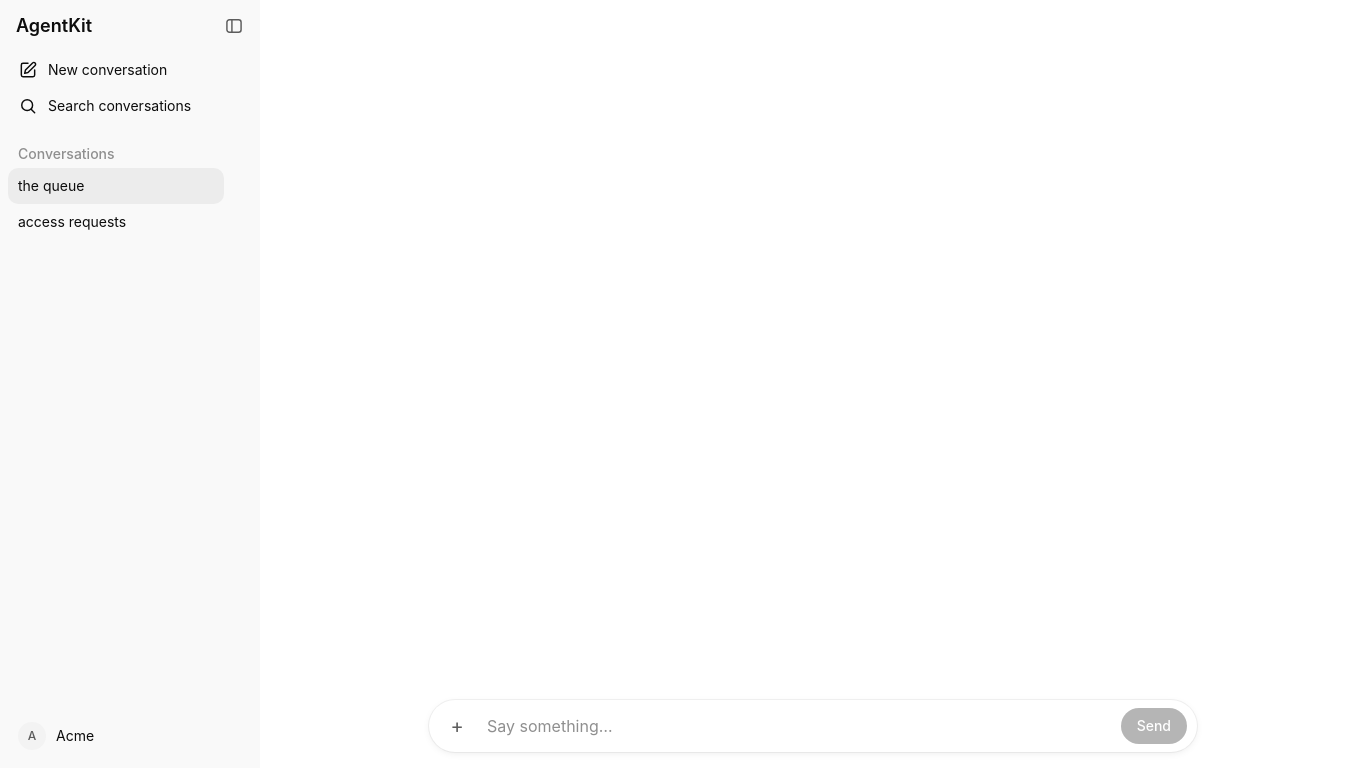
Test: threads end to end › starts a new conversation rather than emptying the open one
Expected: the text "the queue" is shown, [18, 176, 84, 196]
Click the button with aria-label "Start a new conversation". click: x=130, y=70
box: [8, 52, 252, 88]
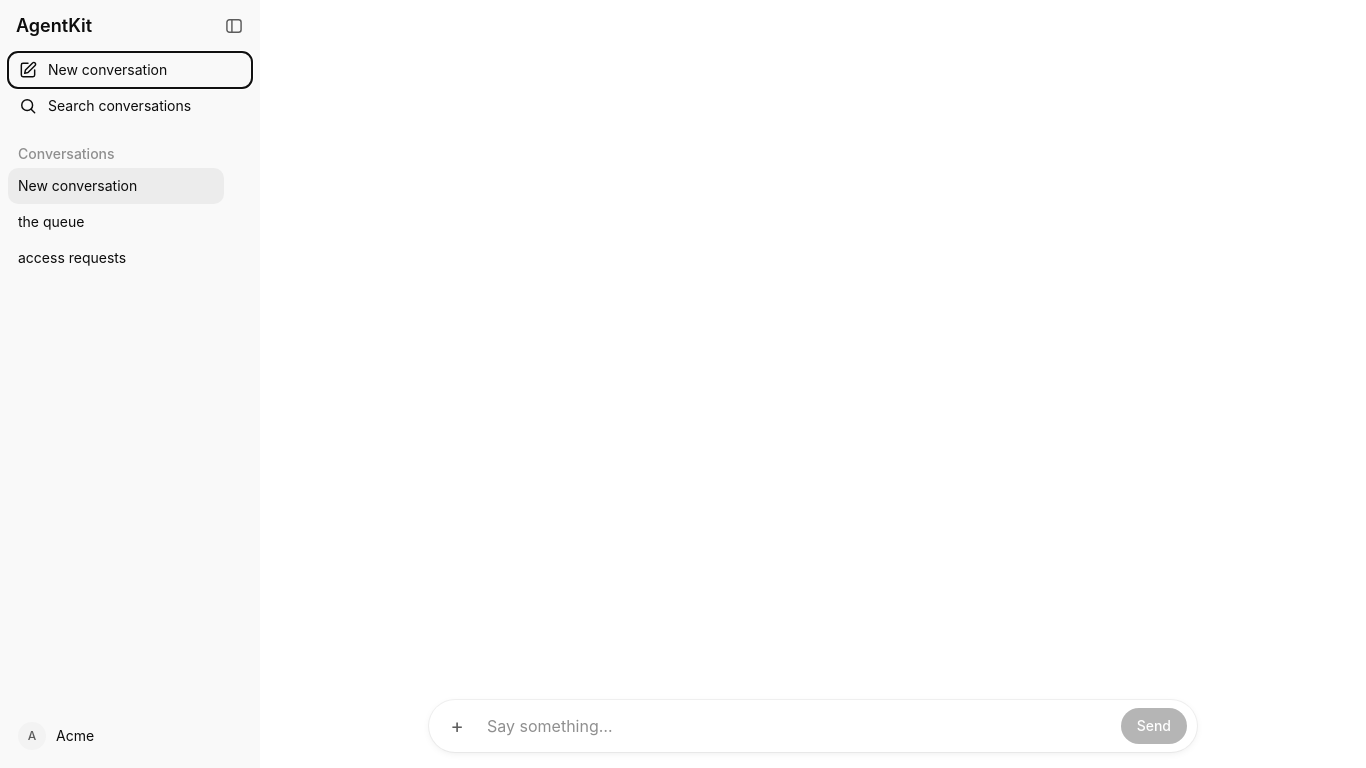
Expected: the number of buttons "the queue" is 1, [8, 204, 224, 240]
Expected: the number of buttons "access requests" is 1, [8, 240, 224, 276]
Expected: the number of buttons "New conversation" is 1, [8, 168, 224, 204]
